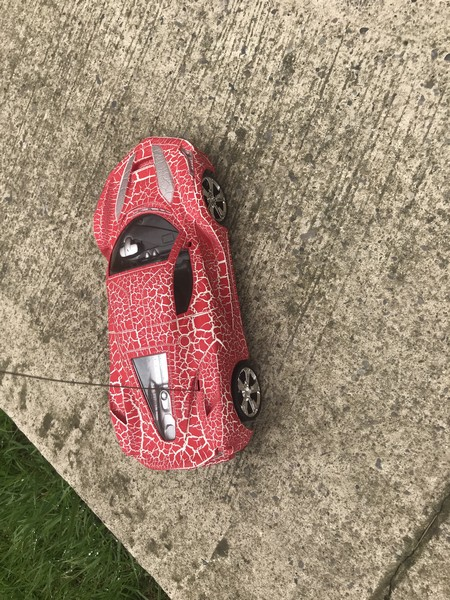RC: (93, 135, 264, 472)
